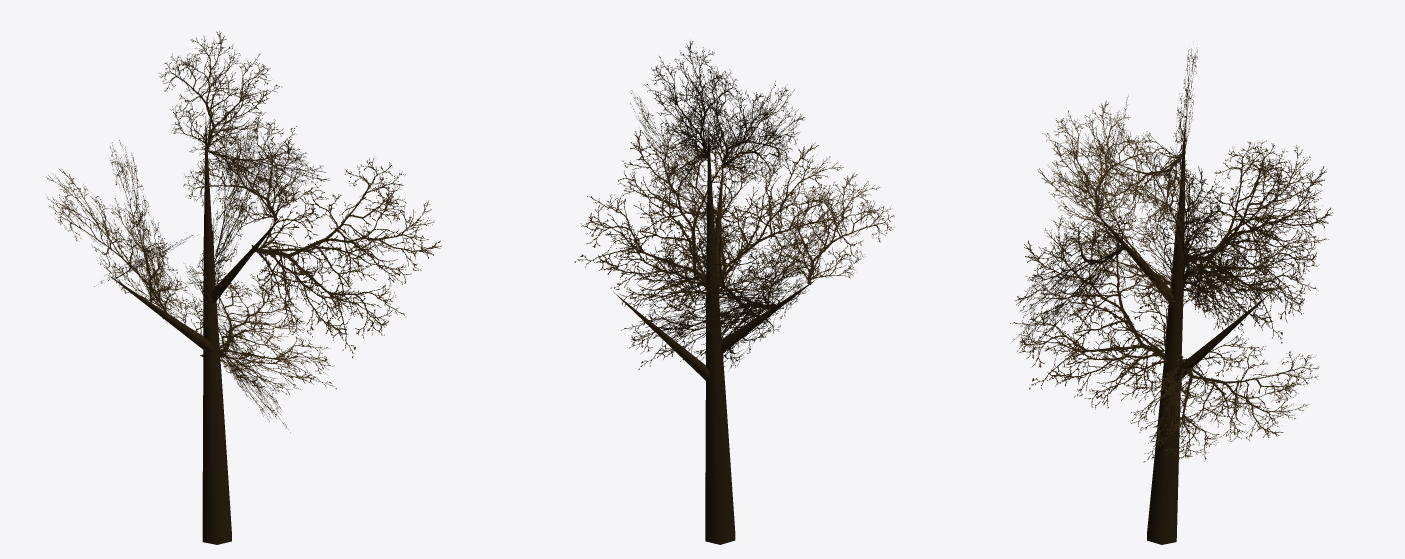
File: birch.fbx
3 renders of one model, left to right at view 1: azimuth 30°, elevation 25°; view 2: azimuth 150°, elevation 25°; view 3: azimuth 270°, elevation 25°, orthographic.
Parts seen in each view (by area): view 1: tree.004; view 2: tree.004; view 3: tree.004.
Part boxes in pixels (x1,y1,x2,y2): tree.004: (45, 31, 441, 544); tree.004: (574, 41, 894, 544); tree.004: (1010, 48, 1333, 544).
Size of the model in its own units: 12.82 by 18.14 by 14.42.
